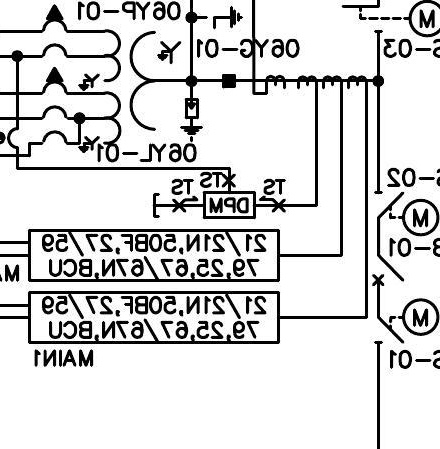115_breaker: (371, 255, 405, 287)
115_gs: (203, 5, 244, 30)
115_la: (179, 98, 204, 143)
115_vt_3p: (41, 3, 182, 154)
DPM: (203, 191, 256, 219)
